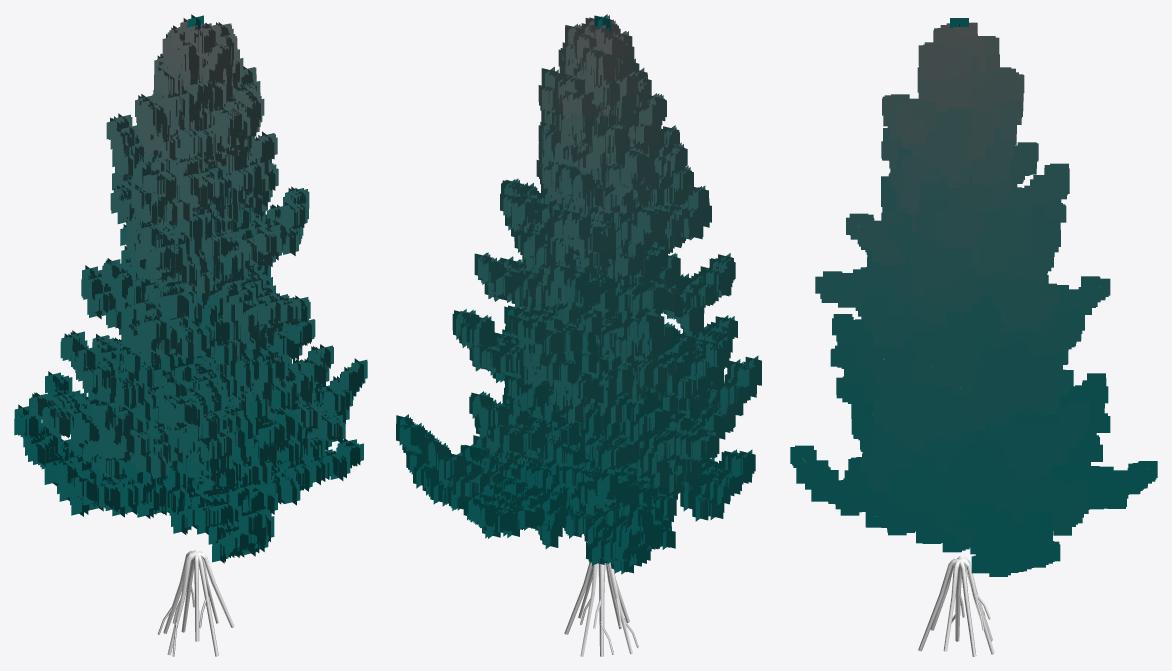
The picture shows the model from 3 angles, left to right: view 1: azimuth 30°, elevation 25°; view 2: azimuth 150°, elevation 25°; view 3: azimuth 270°, elevation 25°; orthographic projection.
Visible parts, largest first — view 1: Foliage, RootTips; view 2: Foliage, RootTips; view 3: Foliage, RootTips.
Part boxes in pixels (<box>): Foliage: <box>14,14,367,563</box>; RootTips: <box>157,550,234,656</box>; Foliage: <box>396,14,761,574</box>; RootTips: <box>564,562,638,656</box>; Foliage: <box>790,18,1157,576</box>; RootTips: <box>918,556,994,656</box>.
Size of the model in its own units: 8729 by 8754 by 16757.
